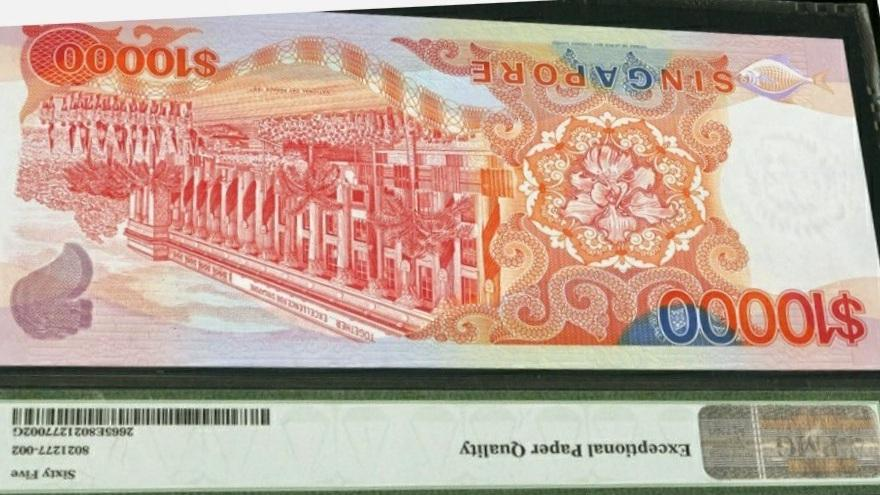10000SingaporeDollar: (0, 29, 863, 364)
